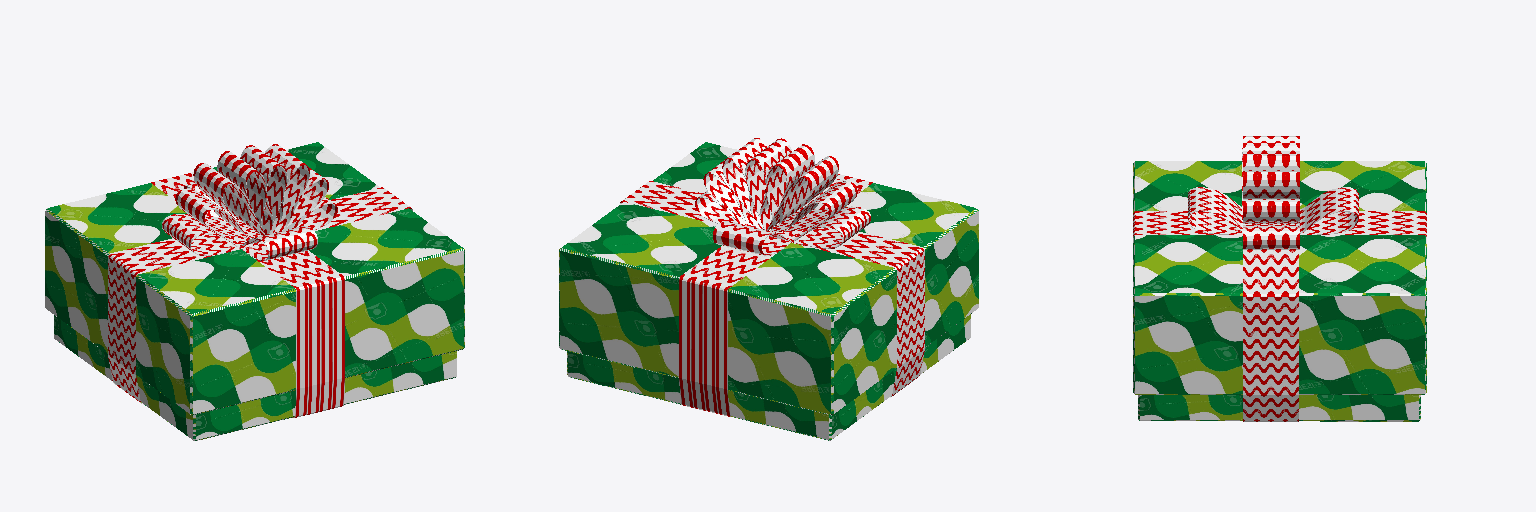
The picture shows the model from 3 angles: view 1: azimuth 30°, elevation 25°; view 2: azimuth 150°, elevation 25°; view 3: azimuth 270°, elevation 25°; orthographic projection.
Parts seen in each view (by area): view 1: Box04.002, Plane06.002, Box03.002, Plane04.002, Plane09.002, Plane10.002, Plane11.002, Plane08.002, Plane07.002; view 2: Box04.002, Plane06.002, Box03.002, Plane04.002, Plane09.002, Plane10.002, Plane11.002, Plane08.002, Plane07.002; view 3: Box04.002, Plane04.002, Box03.002, Plane07.002, Plane06.002, Plane10.002, Plane09.002, Plane08.002, Plane11.002.
Part boxes in pixels (bbox=[...]): Box04.002: bbox=[45, 142, 464, 415]; Plane06.002: bbox=[151, 172, 344, 417]; Box03.002: bbox=[54, 315, 456, 440]; Plane04.002: bbox=[108, 187, 412, 404]; Plane09.002: bbox=[217, 145, 287, 235]; Plane10.002: bbox=[193, 144, 309, 235]; Plane11.002: bbox=[175, 168, 328, 237]; Plane08.002: bbox=[162, 197, 337, 255]; Plane07.002: bbox=[184, 183, 317, 260]; Box04.002: bbox=[559, 142, 978, 415]; Plane06.002: bbox=[679, 174, 872, 416]; Box03.002: bbox=[567, 314, 970, 440]; Plane04.002: bbox=[620, 181, 924, 397]; Plane09.002: bbox=[745, 138, 814, 230]; Plane10.002: bbox=[722, 138, 838, 230]; Plane11.002: bbox=[703, 153, 857, 231]; Plane08.002: bbox=[695, 190, 870, 248]; Plane07.002: bbox=[713, 179, 845, 255]; Box04.002: bbox=[1133, 161, 1426, 394]; Plane04.002: bbox=[1243, 250, 1298, 421]; Box03.002: bbox=[1138, 395, 1420, 421]; Plane07.002: bbox=[1188, 187, 1358, 234]; Plane06.002: bbox=[1133, 211, 1426, 236]; Plane10.002: bbox=[1242, 136, 1299, 219]; Plane09.002: bbox=[1243, 143, 1299, 170]; Plane08.002: bbox=[1243, 224, 1299, 249]; Plane11.002: bbox=[1242, 148, 1299, 223].
Bounding box in the file's own units: 1.08 × 0.7701 × 0.9961.
2 materials, 2 textured.